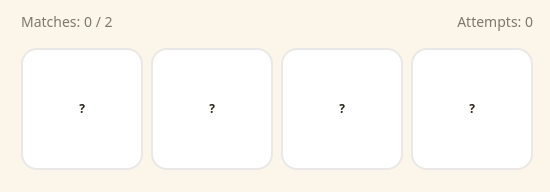
it: MemoryPlayer › flipping two matching cards keeps them face-up and counts as a match
Click the 1st button "?" at (82, 109), box [21,48,143,170]
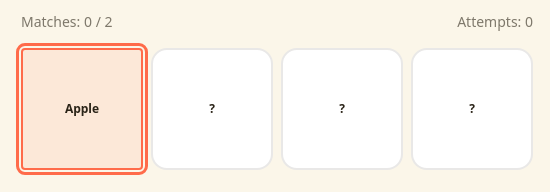
Click the 3rd button "?" at (472, 109), box [411,48,533,170]
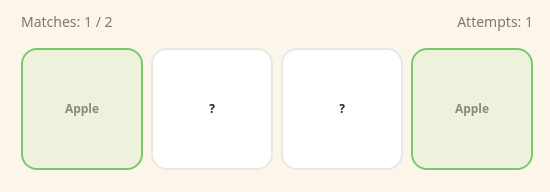
Result: the text "Matches: 1 / 2" is shown at [21,12,112,32]
